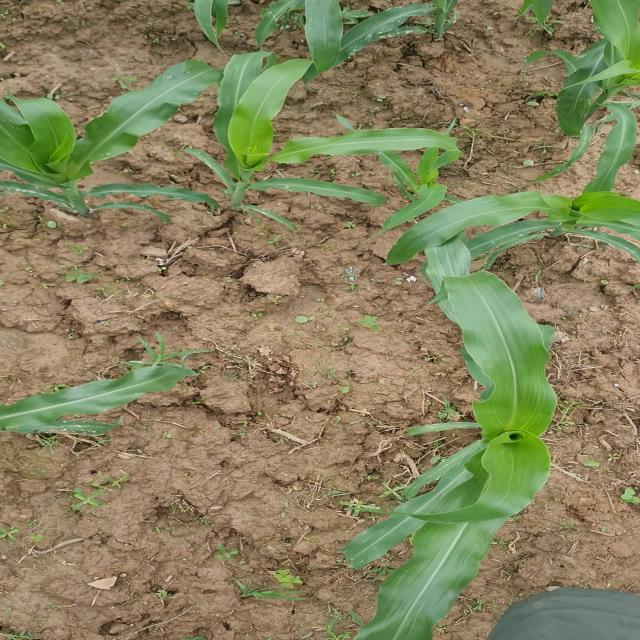maize: (352, 282, 556, 636), (3, 49, 213, 239), (197, 36, 317, 260), (418, 161, 640, 282), (174, 1, 466, 57), (0, 362, 187, 436), (524, 0, 640, 114), (344, 135, 474, 212)
